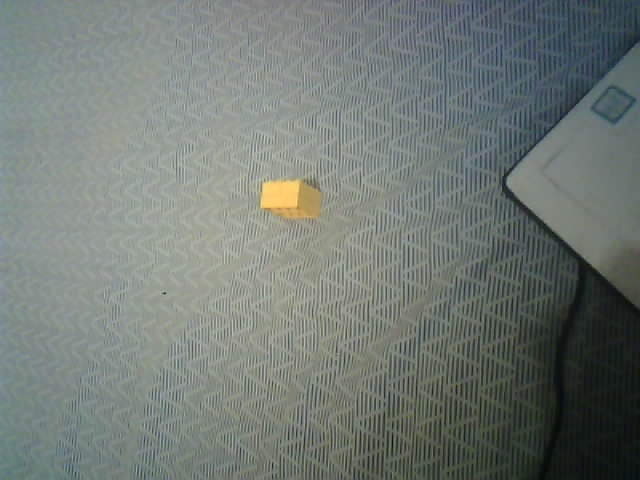lego: (259, 178, 323, 219)
